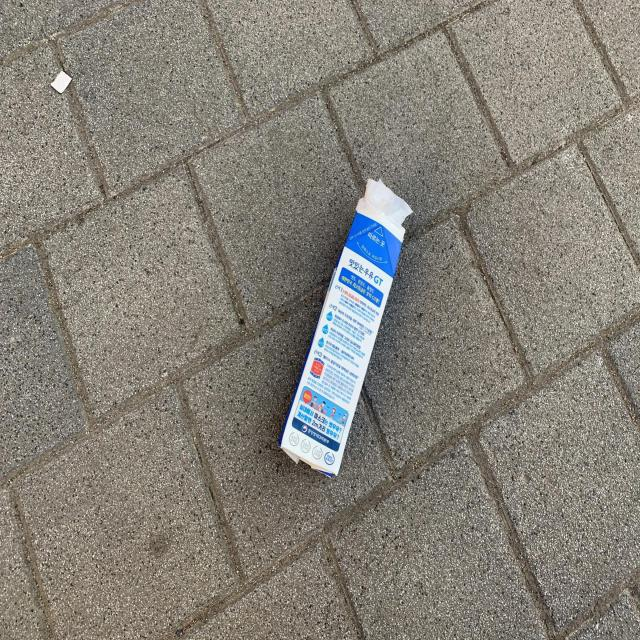paperpack: (279, 179, 413, 477)
